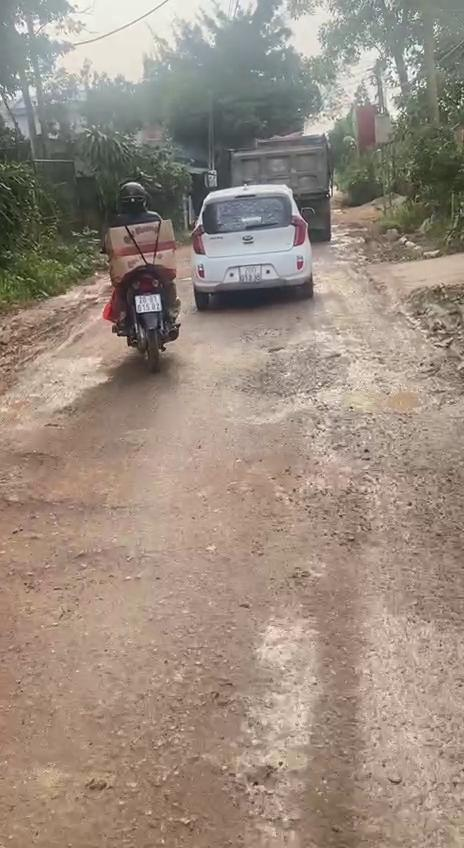pothole: (0, 492, 115, 556), (296, 380, 431, 420), (0, 446, 64, 489)
